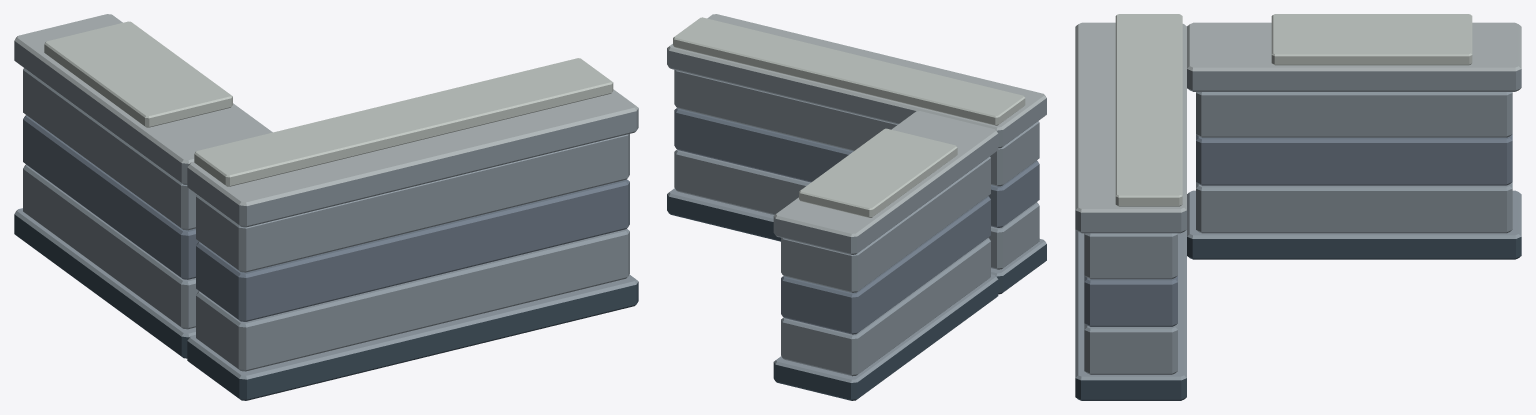
File: wall-corner.glb
3 renders of one model, left to right at view 1: azimuth 30°, elevation 25°; view 2: azimuth 150°, elevation 25°; view 3: azimuth 270°, elevation 25°, orthographic. The views are drawn at different scales.
Parts seen in each view (by area): view 1: wall-corner__body; view 2: wall-corner__body; view 3: wall-corner__body.
Part boxes in pixels (<box>): wall-corner__body: <box>14,14,638,400</box>; wall-corner__body: <box>667,14,1046,400</box>; wall-corner__body: <box>1075,14,1521,400</box>.
Size of the model in its own units: 2 by 1 by 2.
